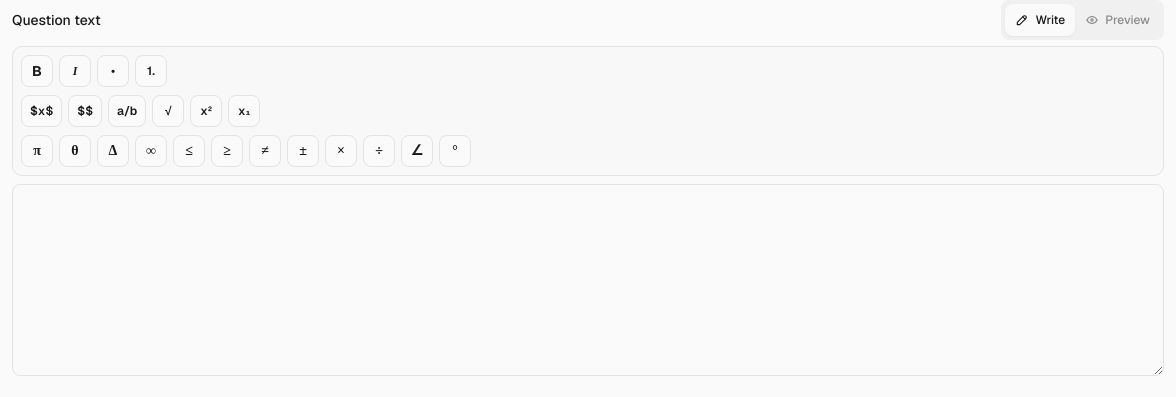
Test: MarkdownLatexEditor › inserts mathematical symbols from the toolbar
The image size is (1176, 397).
Click the button named "Pi" at (37, 151), box [21,135,53,167]
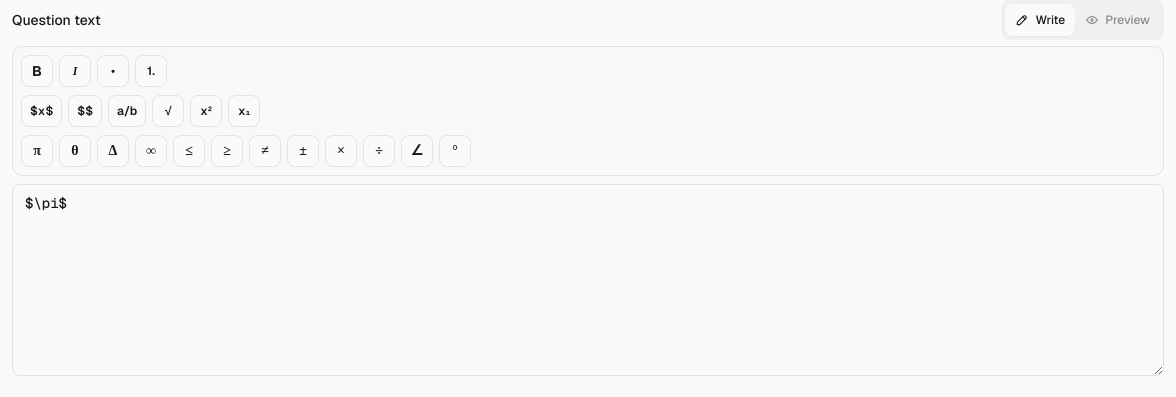
Click the button named "Greater than or equal" at (227, 151), box [211,135,243,167]
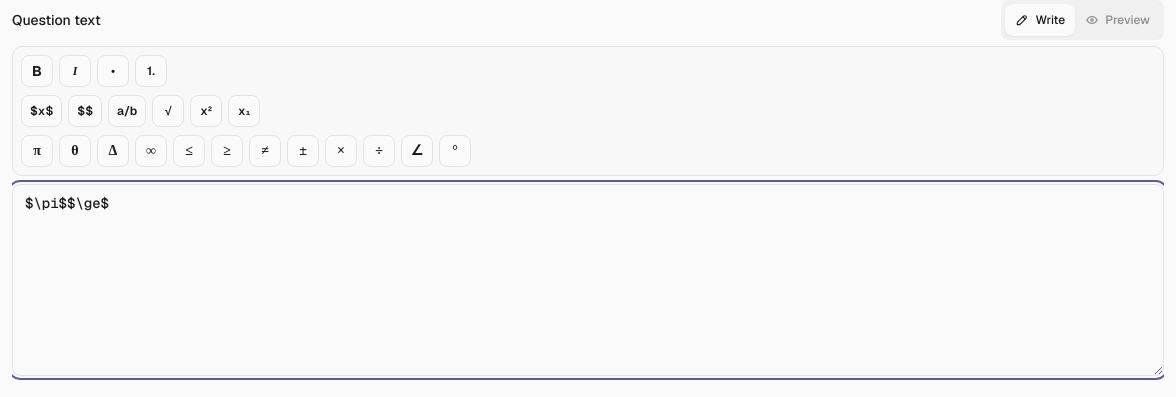
Check: the text box labelled "Question text" holds "$\\pi$$\\ge$", box [12,184,1164,376]
